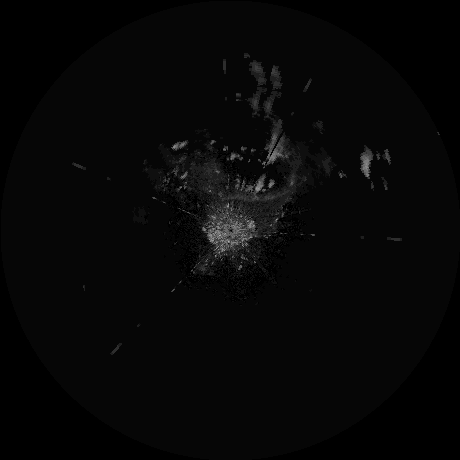frontgust: (227, 189, 287, 202)
